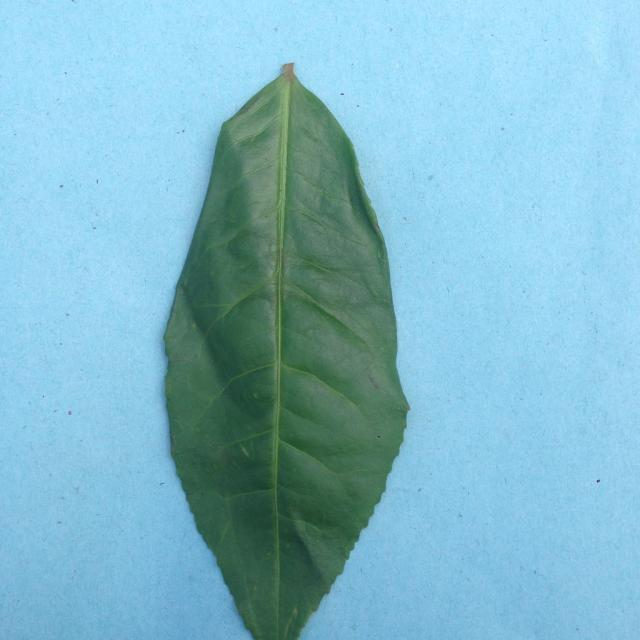Healthy: (146, 55, 418, 640)
